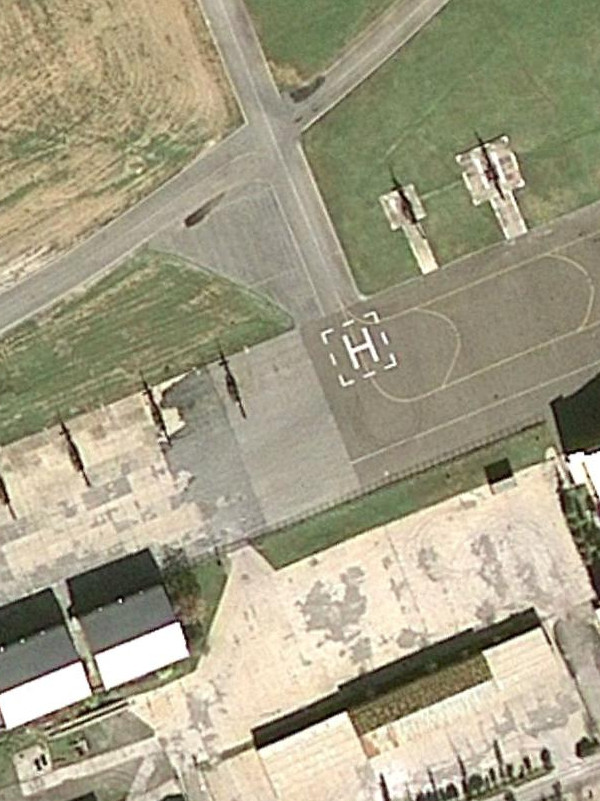heliport: (336, 317, 386, 379)
